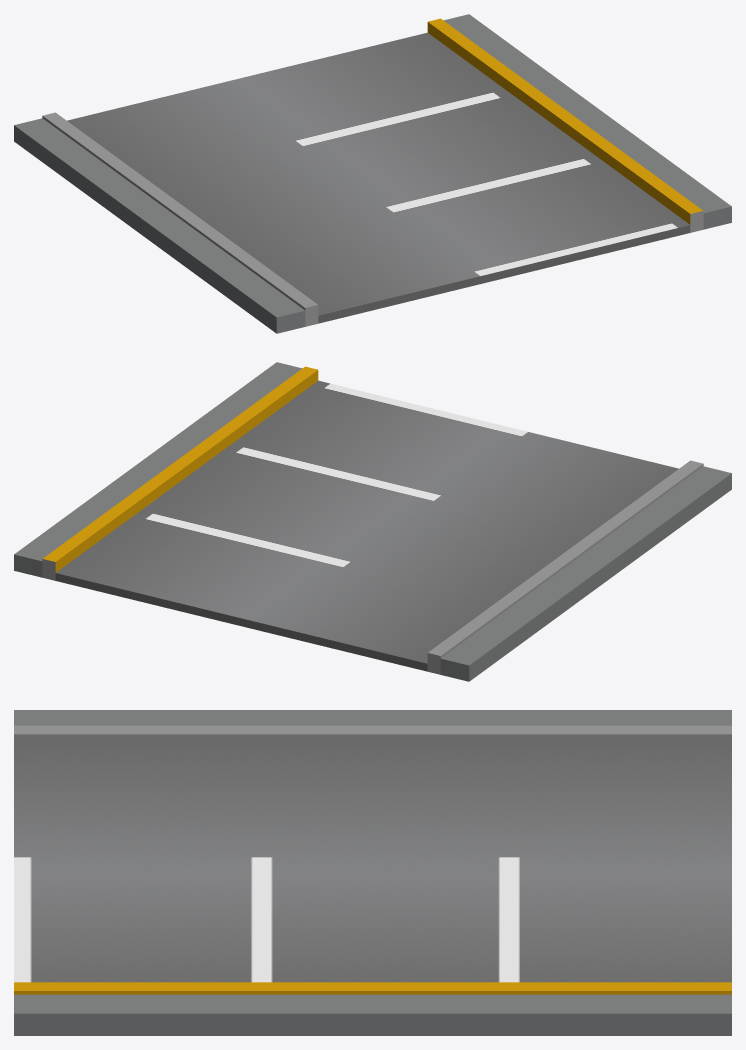
Rendered from Road1_Parking1.fbx.
3 renders of one model, top to bottom at view 1: azimuth 30°, elevation 25°; view 2: azimuth 150°, elevation 25°; view 3: azimuth 270°, elevation 25°, orthographic. The views are drawn at different scales.
Parts seen in each view (by area): view 1: Road1_Parking1; view 2: Road1_Parking1; view 3: Road1_Parking1.
Part boxes in pixels (box(x1,y1,x2,y2)): Road1_Parking1: box(14, 14, 731, 333); Road1_Parking1: box(14, 362, 731, 681); Road1_Parking1: box(14, 710, 731, 1035).
Bounding box in the file's own units: 12 × 0.4753 × 12.
